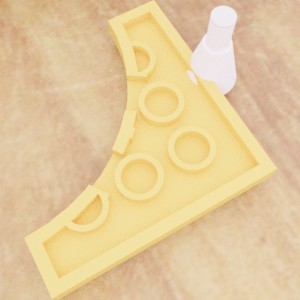lego: (24, 0, 277, 299), (183, 5, 236, 97)
